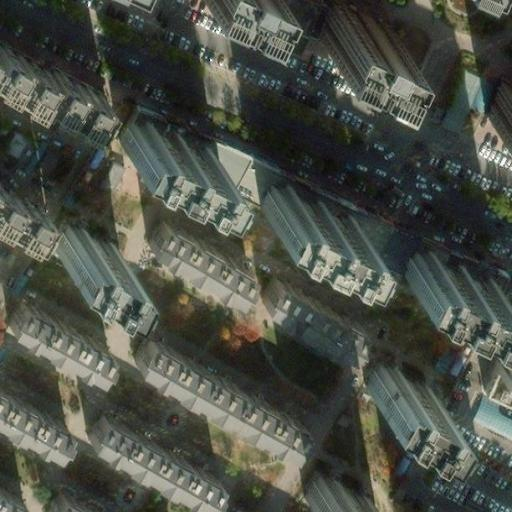building: (126, 102, 512, 310), (127, 349, 302, 467), (86, 412, 219, 506), (252, 271, 366, 366), (140, 215, 254, 305), (7, 296, 111, 375), (0, 47, 95, 122), (399, 243, 500, 311), (258, 179, 358, 247), (114, 114, 215, 181), (427, 64, 512, 136), (317, 12, 397, 79), (0, 383, 72, 452), (365, 363, 439, 424), (55, 225, 122, 280), (308, 481, 377, 512), (0, 191, 40, 241), (478, 326, 512, 380), (477, 68, 512, 117), (45, 489, 99, 512)
